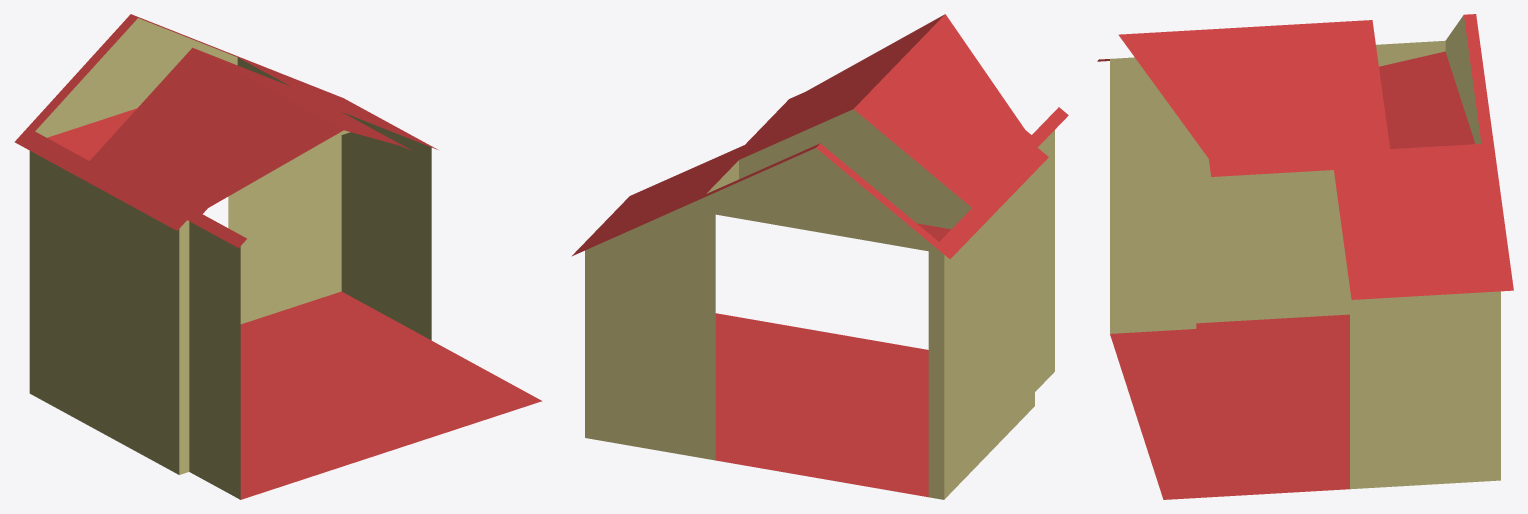
3 views of the same model, side by side, from view 1: azimuth 30°, elevation 25°; view 2: azimuth 150°, elevation 25°; view 3: azimuth 270°, elevation 25° (orthographic). The views are drawn at different scales.
Bounding box in the file's own units: 20.43 × 18.33 × 17.16.
